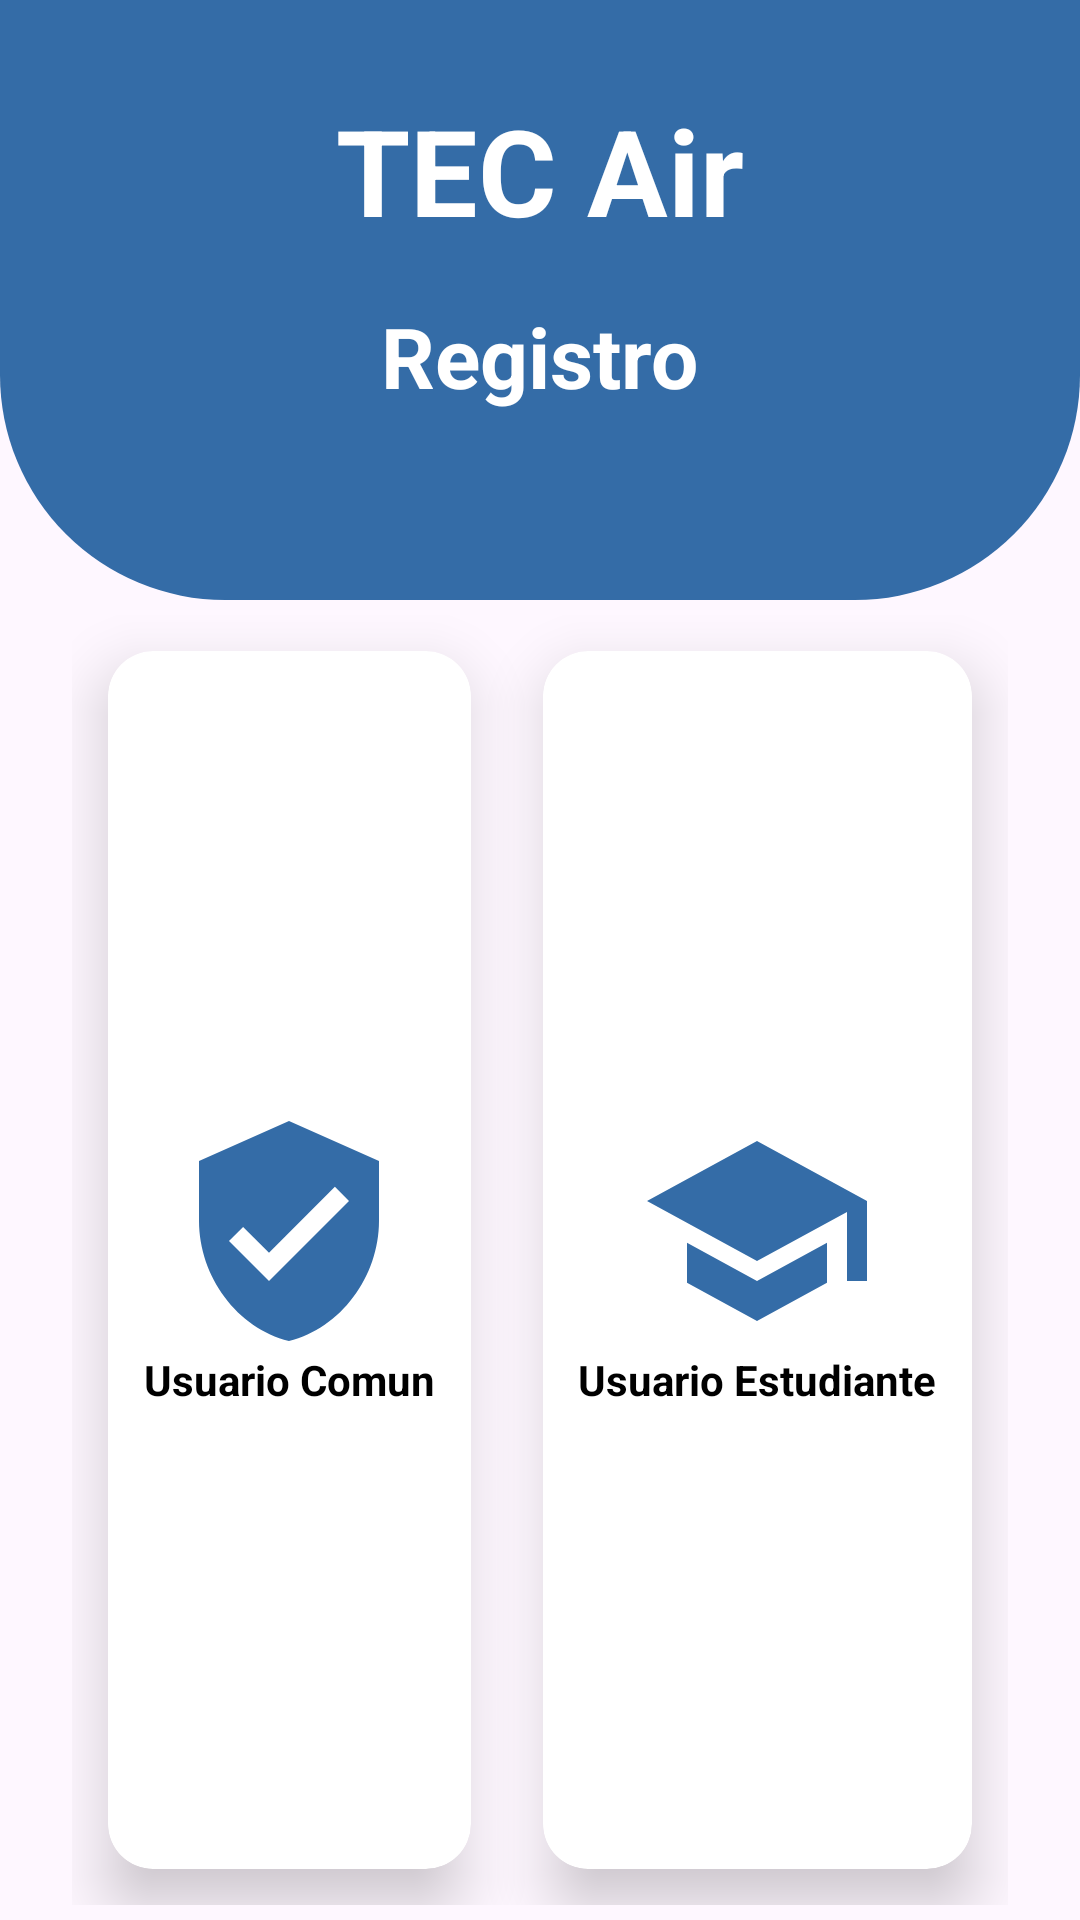

Icons on this 1080w x 1920h Android screen, each with the point to tap as (x,y):
school: (757,1231)
verified user: (289,1231)
